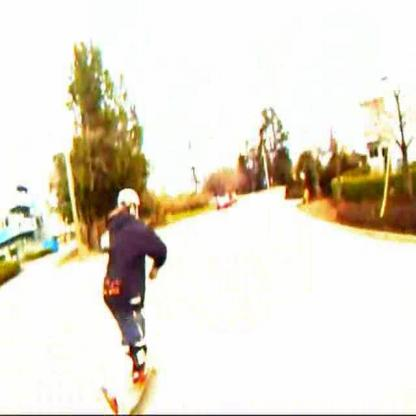other: (204, 177, 325, 271), (93, 357, 176, 410)
